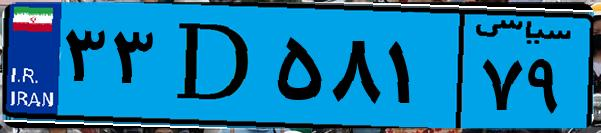1: (385, 28, 445, 110)
3: (57, 26, 110, 100), (110, 28, 158, 98)
5: (270, 28, 330, 110)
7: (475, 38, 525, 113)
8: (330, 28, 385, 110)
9: (525, 38, 570, 115)
D: (158, 12, 270, 120)
